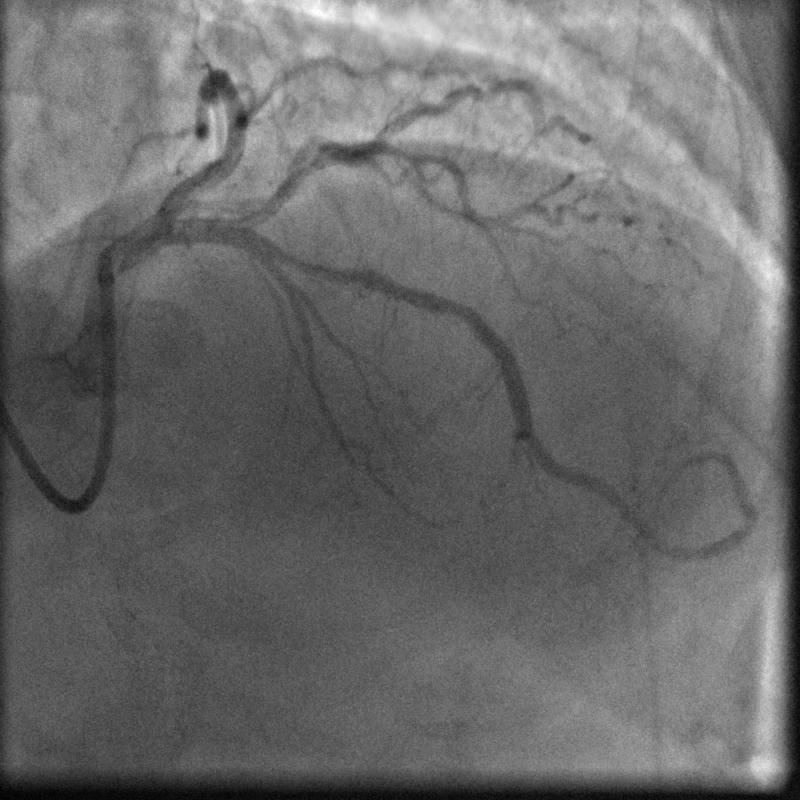Stenosis: (278, 237, 340, 284)
